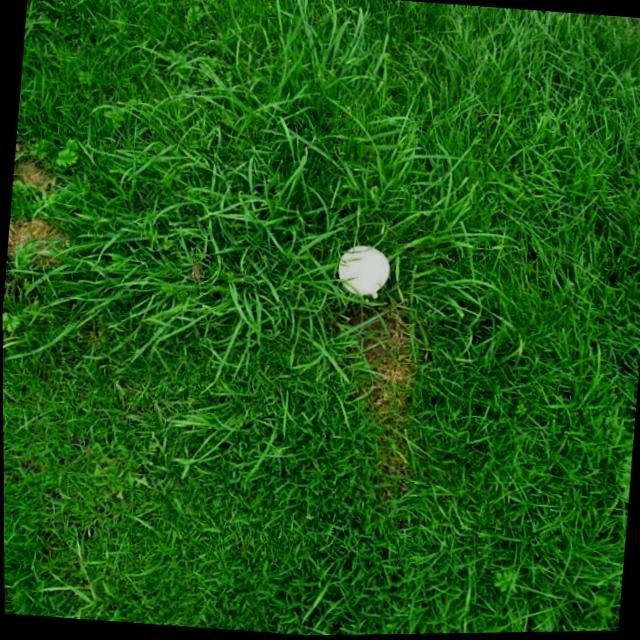Paper: (334, 242, 394, 303)
